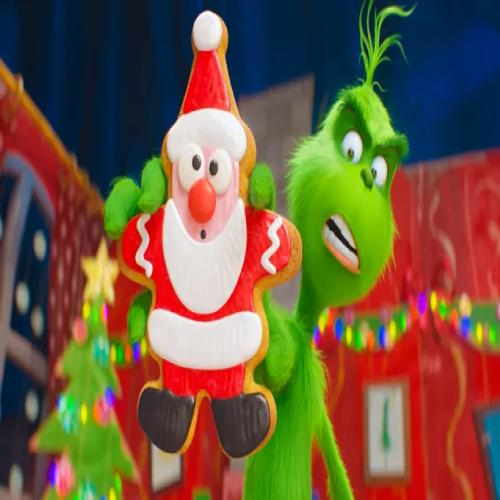Santa: (118, 7, 304, 480)
